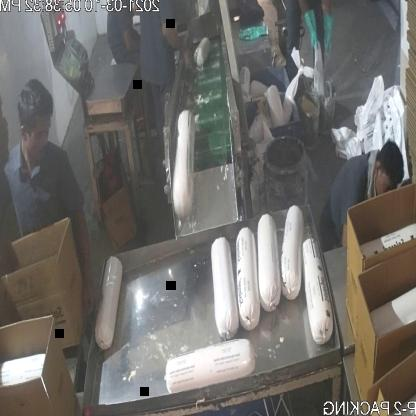no_glove: (69, 191, 104, 343), (157, 16, 193, 68), (0, 190, 13, 291)
